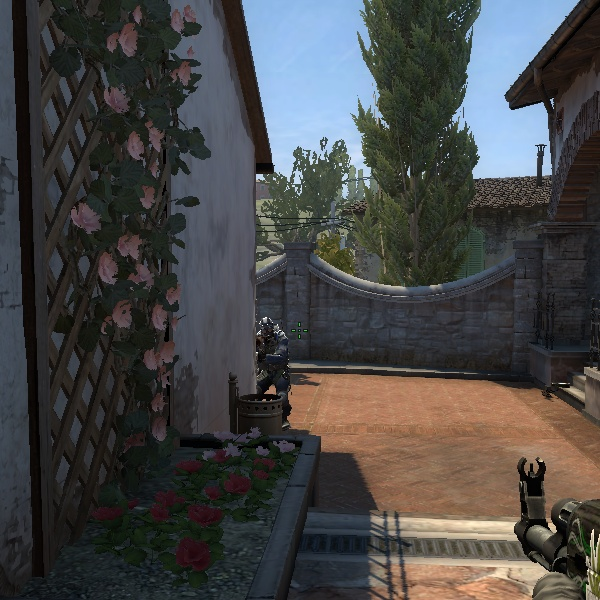ct_body: (0, 4, 263, 488), (248, 314, 294, 418)
